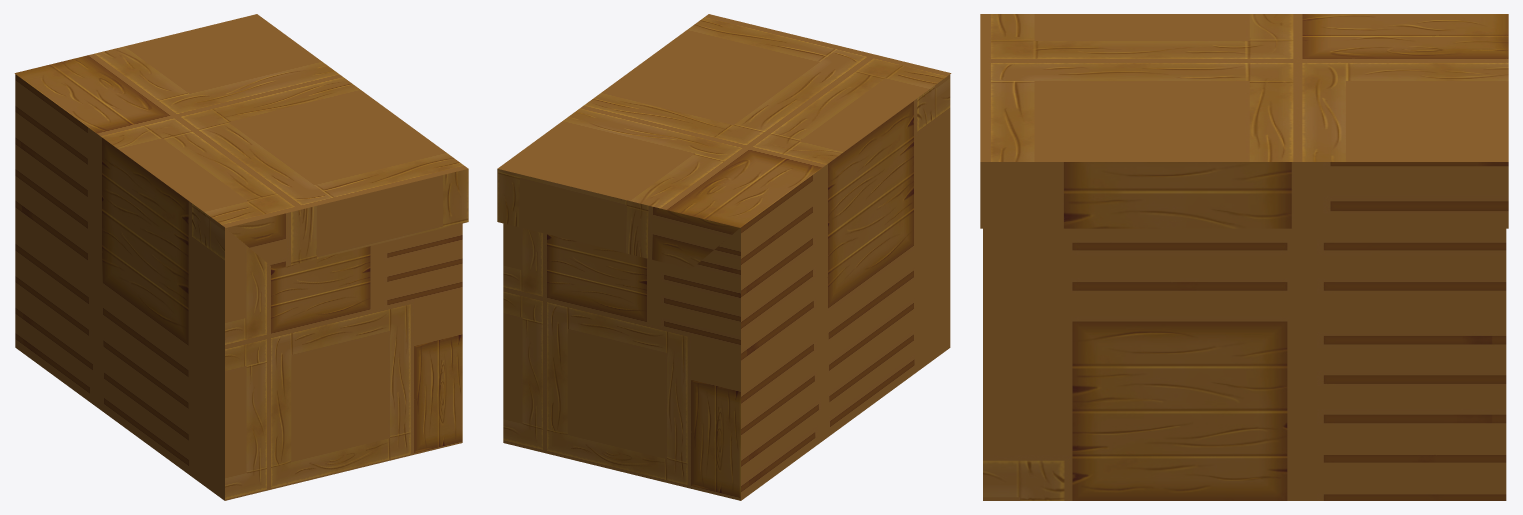
Rendered from box_simple.obj.
3 views of the same model, side by side, from view 1: azimuth 30°, elevation 25°; view 2: azimuth 150°, elevation 25°; view 3: azimuth 270°, elevation 25° (orthographic). The views are drawn at different scales.
Parts seen in each view (by area): view 1: Box; view 2: Box; view 3: Box.
Boxes of the visible parts, bbox=[...] form: Box: bbox=[14, 14, 468, 500]; Box: bbox=[497, 14, 951, 500]; Box: bbox=[980, 14, 1508, 500].
Bounding box in the file's own units: 3.29 × 3.55 × 4.97.
